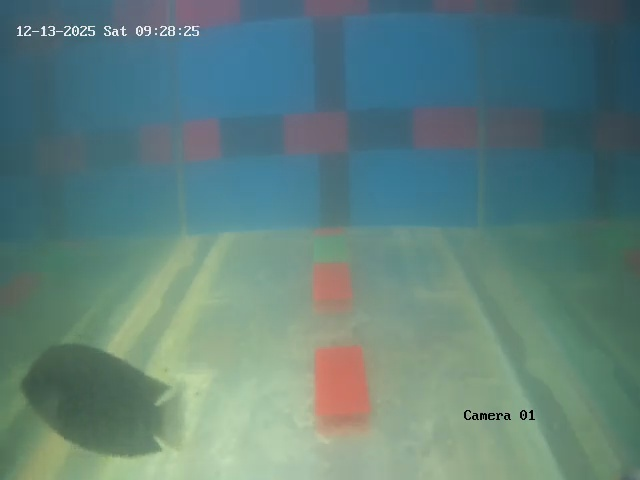fish: (18, 340, 166, 453)
